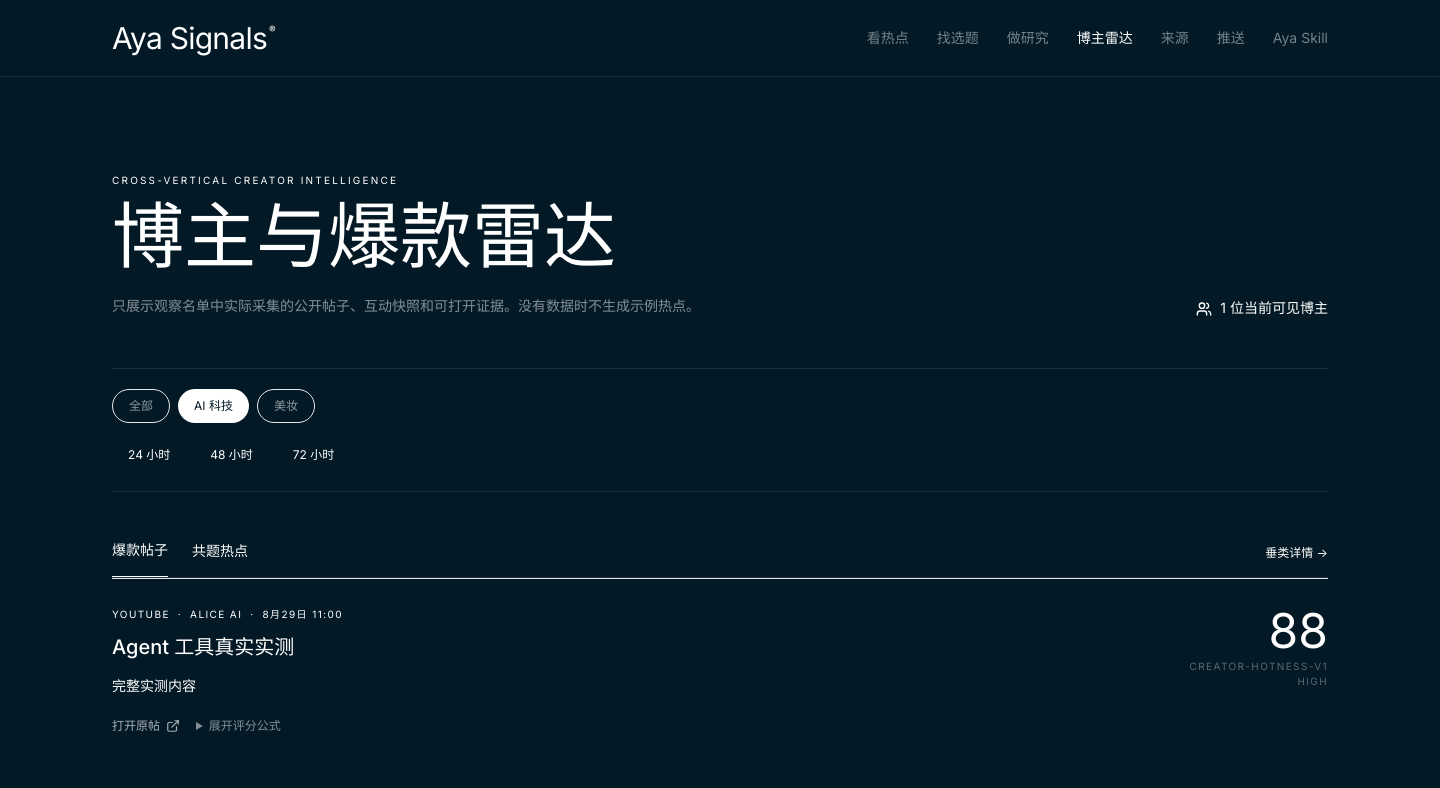
Test: Creator Intelligence workspaces › switches vertical/window/tab, opens original evidence, expands formula and loads the next cursor
Expected: the heading "Agent 工具真实实测" is shown, [112, 635, 294, 659]
Click the button "美妆" at point(286, 406), box [257, 389, 315, 423]
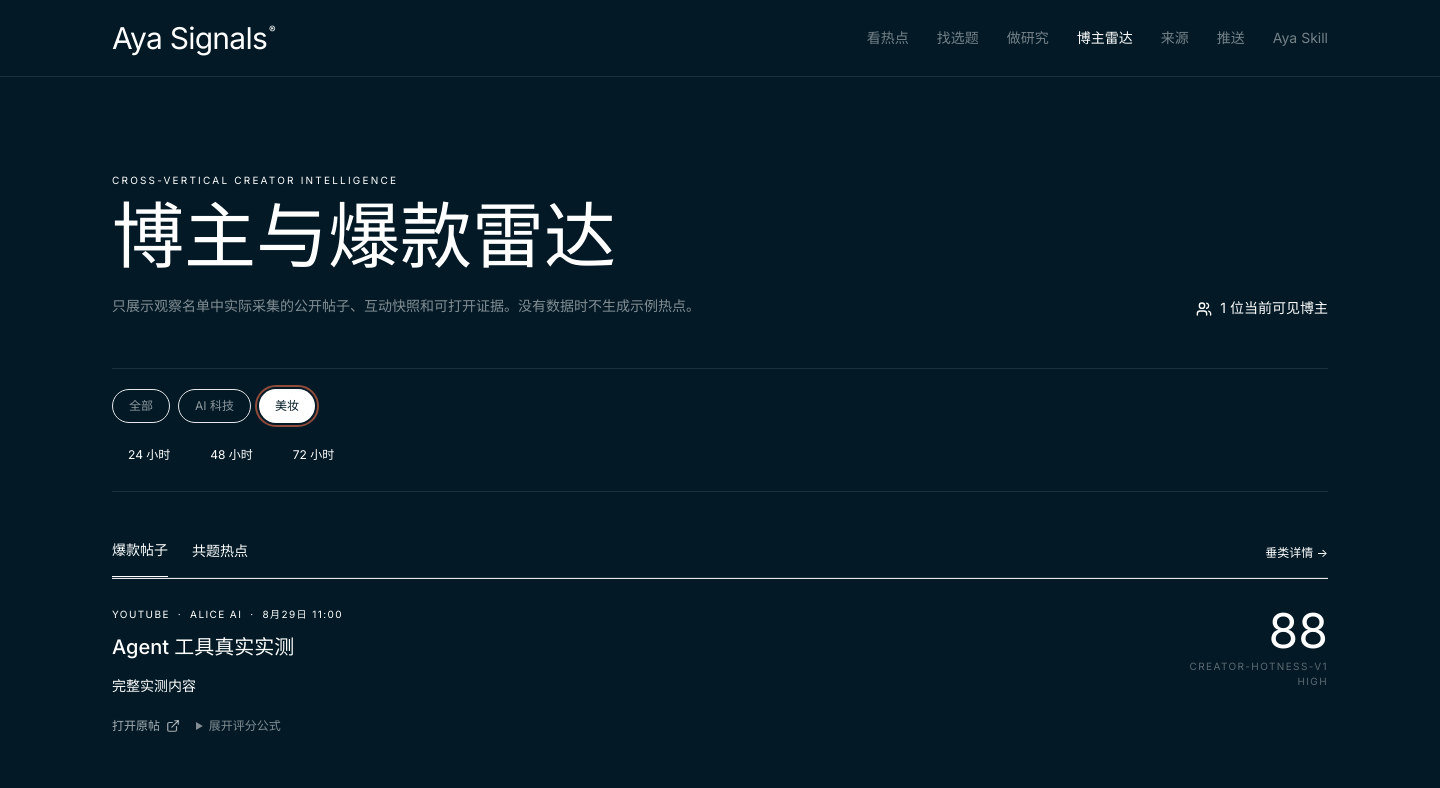
Click the button "24 小时" at point(149, 455), box [112, 439, 186, 471]
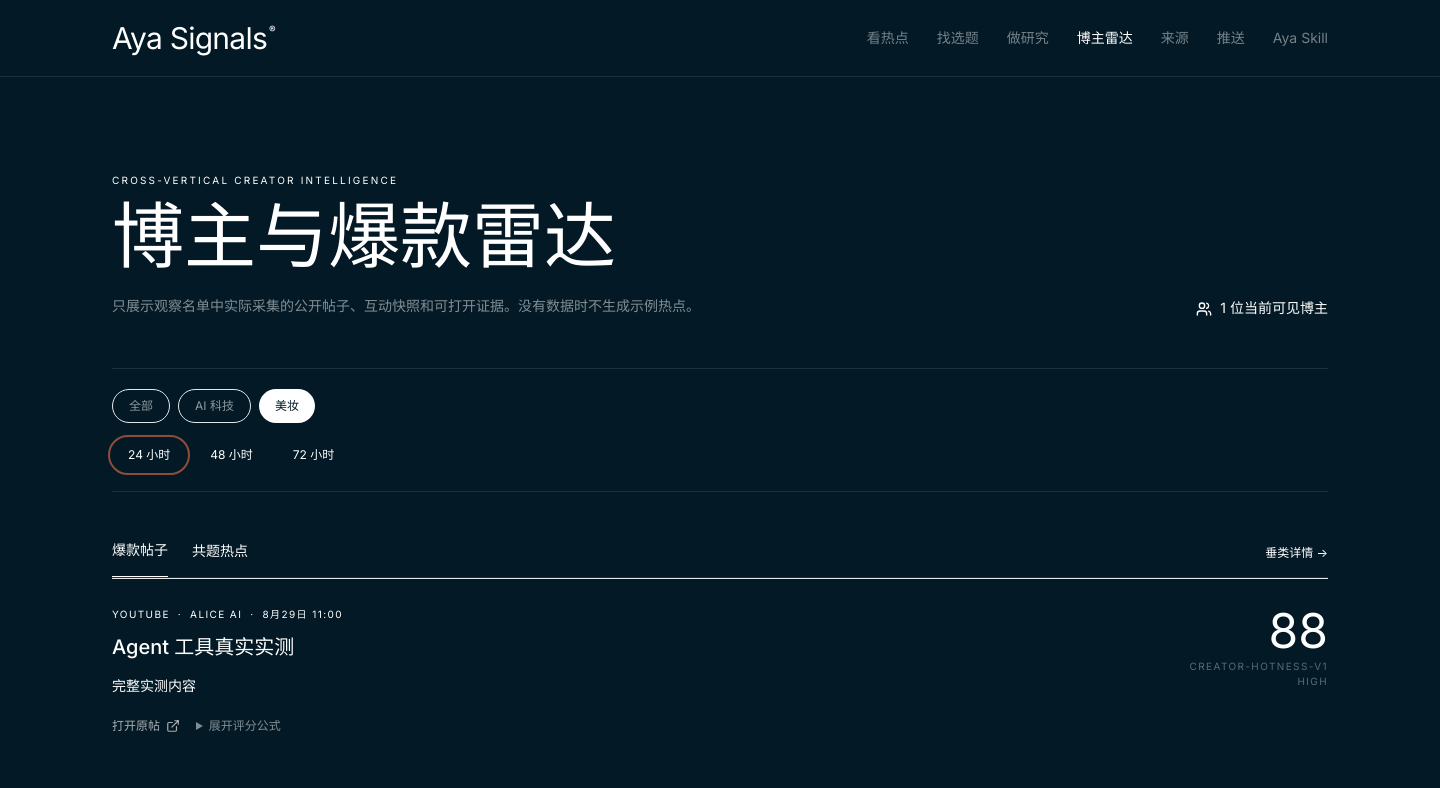
Click the tab "共题热点" at point(220, 558), box [192, 540, 248, 577]
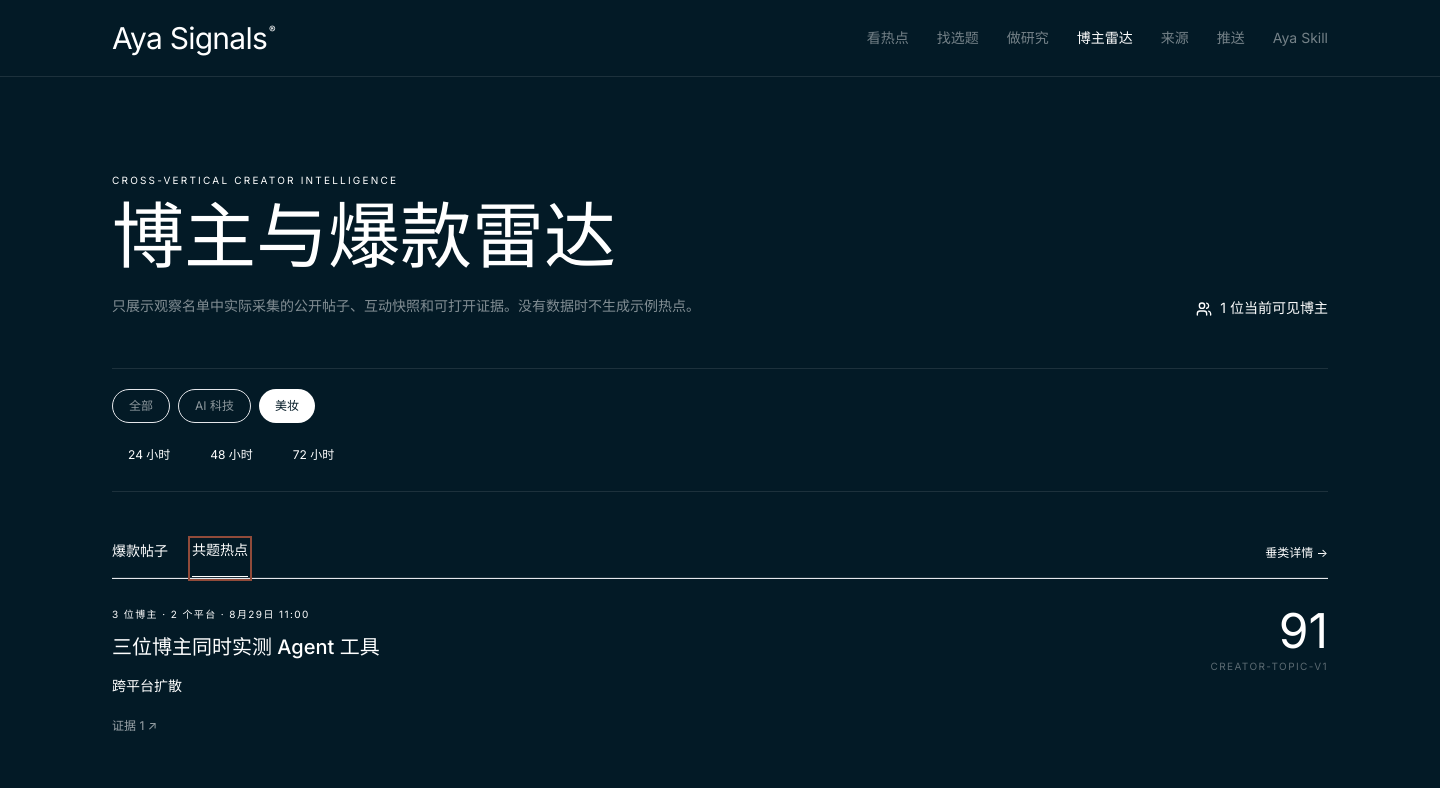
Now the heading "三位博主同时实测 Agent 工具" is shown, box [112, 635, 380, 659]
Click the tab "爆款帖子" at point(140, 558), box [112, 540, 168, 577]
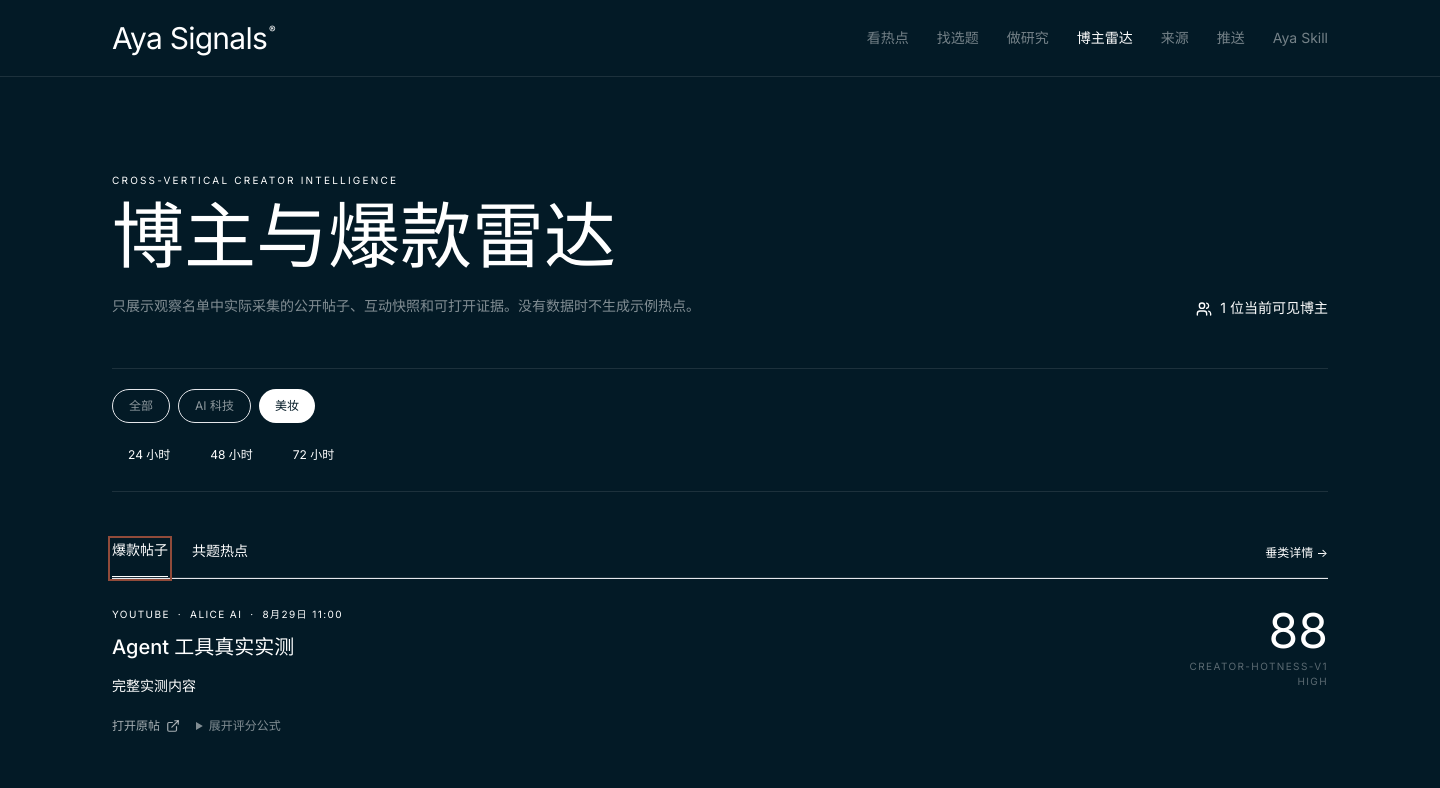
Click the heading "展开评分公式" at point(238, 726), box [196, 718, 281, 734]
(page scrolled)
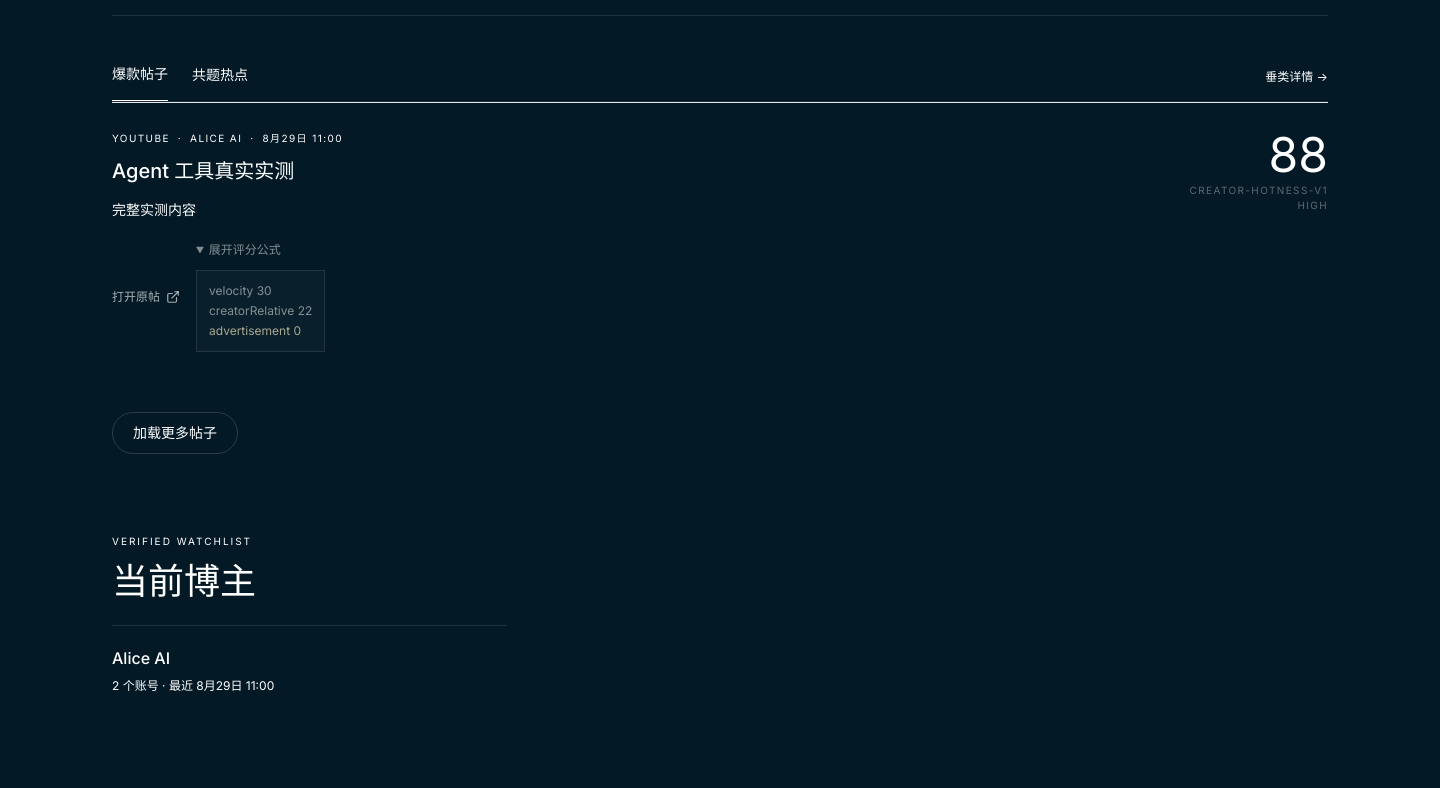
Now the text "velocity 30" is shown, box [209, 282, 272, 298]
Click the button "加载更多帖子" at point(175, 432), box [112, 412, 238, 454]
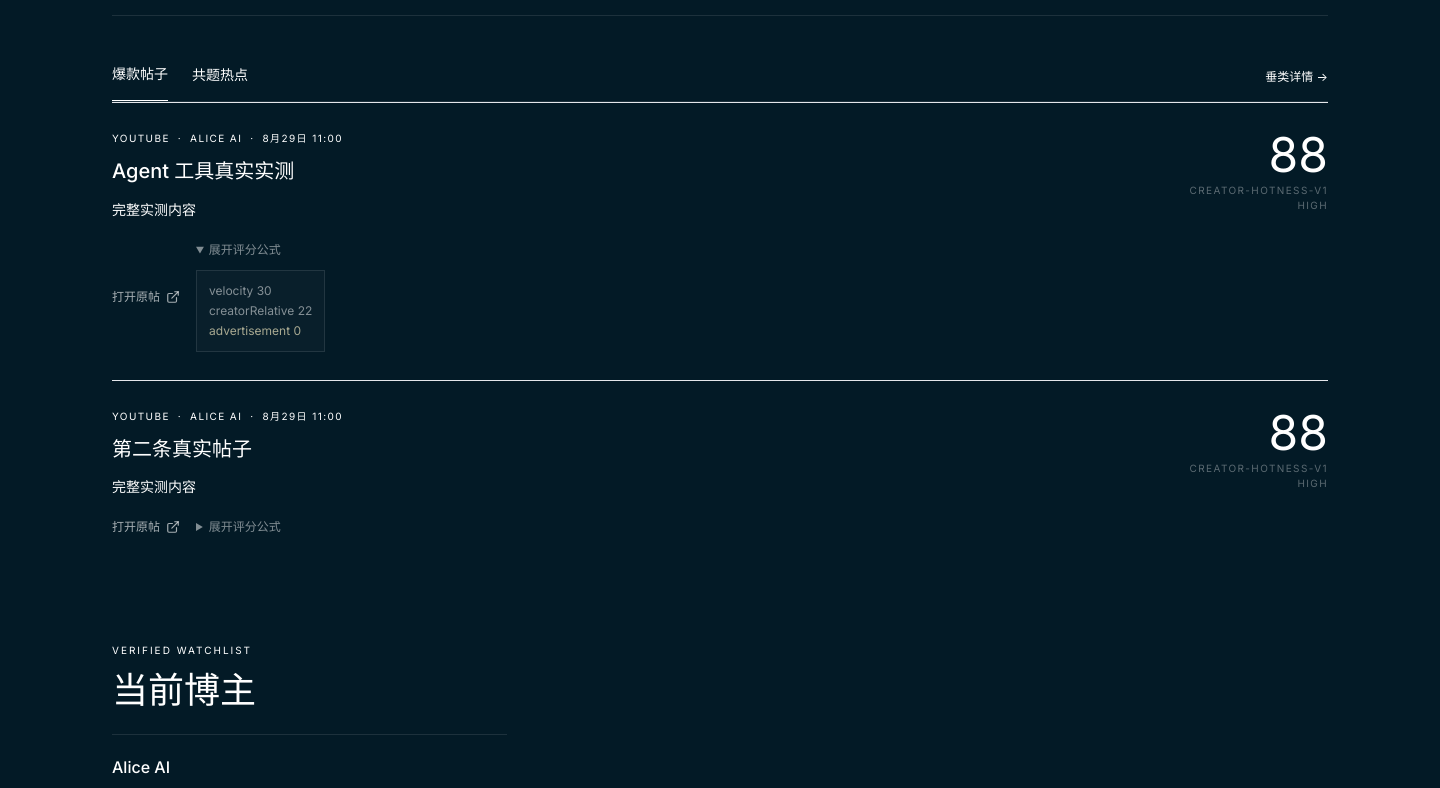
Now the heading "第二条真实帖子" is shown, box [112, 436, 252, 460]
